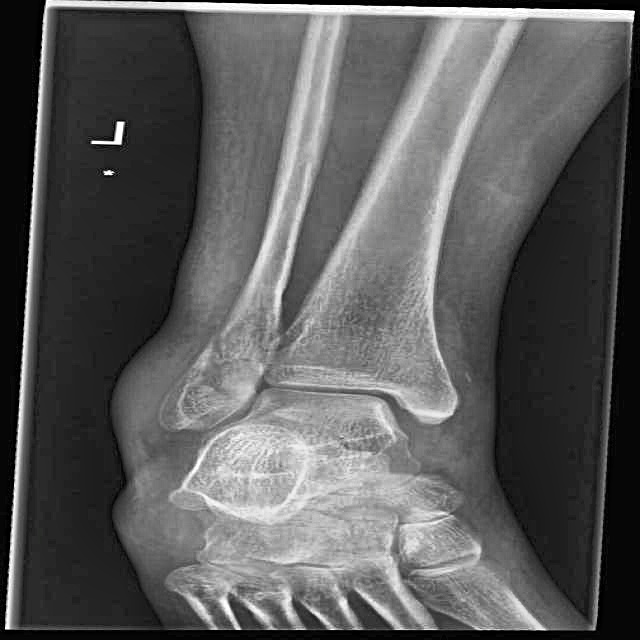Oblique Displaced: (160, 332, 249, 414)
